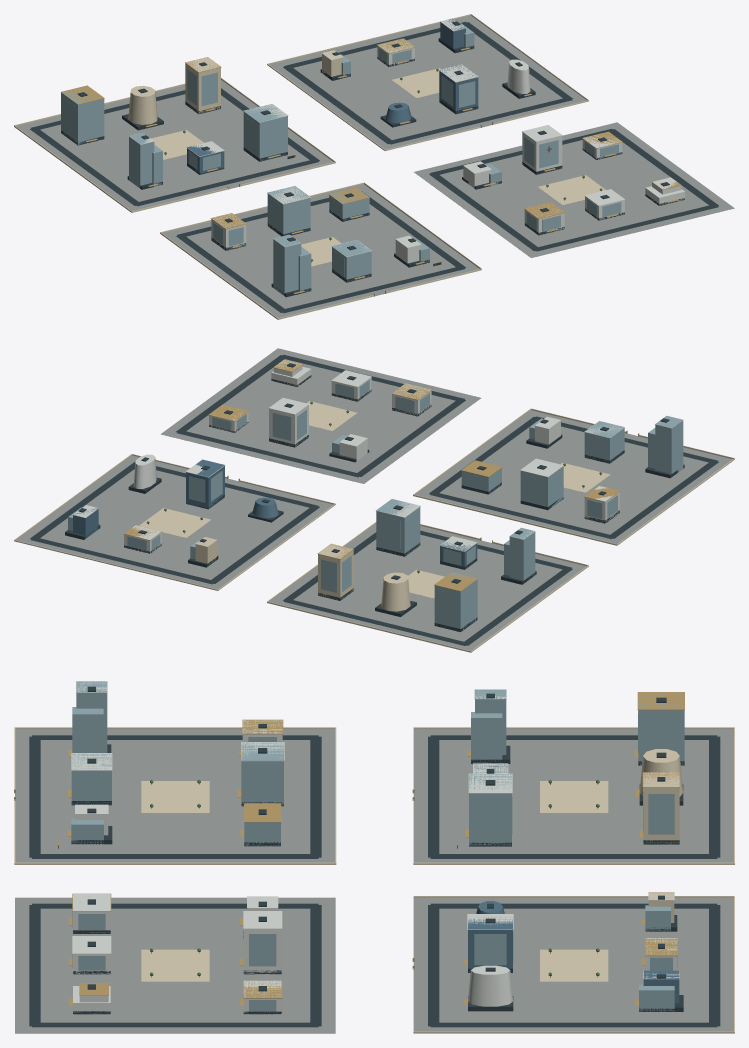
Rendered from GC-TILE-08-22.glb.
The picture shows the model from 3 angles, top to bottom: view 1: azimuth 30°, elevation 25°; view 2: azimuth 150°, elevation 25°; view 3: azimuth 270°, elevation 25°; orthographic projection. The views are drawn at different scales.
Visible parts, largest first — view 1: GC-TILE-08-22-paving, GC-TILE-08-22-glass, GC-TILE-08-22-dark, GC-TILE-08-22-ivory, GC-TILE-08-22-white, GC-TILE-08-22-gold, GC-TILE-08-22-blue; view 2: GC-TILE-08-22-paving, GC-TILE-08-22-dark, GC-TILE-08-22-glass, GC-TILE-08-22-ivory, GC-TILE-08-22-white, GC-TILE-08-22-gold, GC-TILE-08-22-blue; view 3: GC-TILE-08-22-paving, GC-TILE-08-22-dark, GC-TILE-08-22-glass, GC-TILE-08-22-ivory, GC-TILE-08-22-white, GC-TILE-08-22-gold, GC-TILE-08-22-blue.
Boxes of the visible parts, x1,y1,x2,y2 form: GC-TILE-08-22-paving: (16, 15, 734, 318); GC-TILE-08-22-glass: (61, 23, 621, 295); GC-TILE-08-22-dark: (30, 21, 718, 313); GC-TILE-08-22-ivory: (14, 14, 605, 319); GC-TILE-08-22-white: (129, 18, 684, 265); GC-TILE-08-22-gold: (61, 38, 681, 296); GC-TILE-08-22-blue: (187, 18, 478, 173); GC-TILE-08-22-paving: (16, 348, 732, 650); GC-TILE-08-22-dark: (30, 354, 718, 645); GC-TILE-08-22-glass: (68, 380, 683, 632); GC-TILE-08-22-ivory: (14, 401, 734, 652); GC-TILE-08-22-white: (73, 359, 682, 553); GC-TILE-08-22-gold: (124, 360, 639, 600); GC-TILE-08-22-blue: (73, 459, 477, 569); GC-TILE-08-22-paving: (15, 729, 733, 1033); GC-TILE-08-22-dark: (29, 686, 720, 1027); GC-TILE-08-22-glass: (71, 681, 684, 1011); GC-TILE-08-22-ivory: (14, 727, 734, 1033); GC-TILE-08-22-white: (71, 681, 679, 1014); GC-TILE-08-22-gold: (14, 692, 684, 1005); GC-TILE-08-22-blue: (468, 763, 679, 1003).
Size of the model in its own units: 759 by 79.49 by 760.
